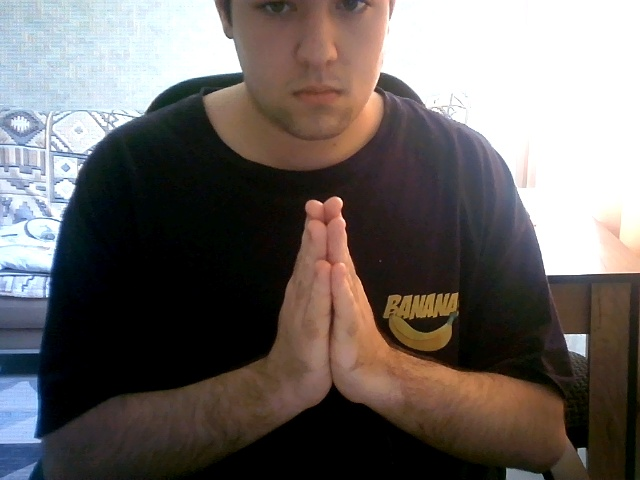please: (257, 173, 407, 423)
